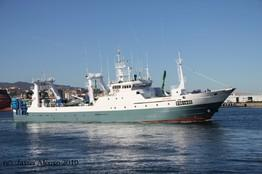Cargoship: (7, 42, 238, 125)
